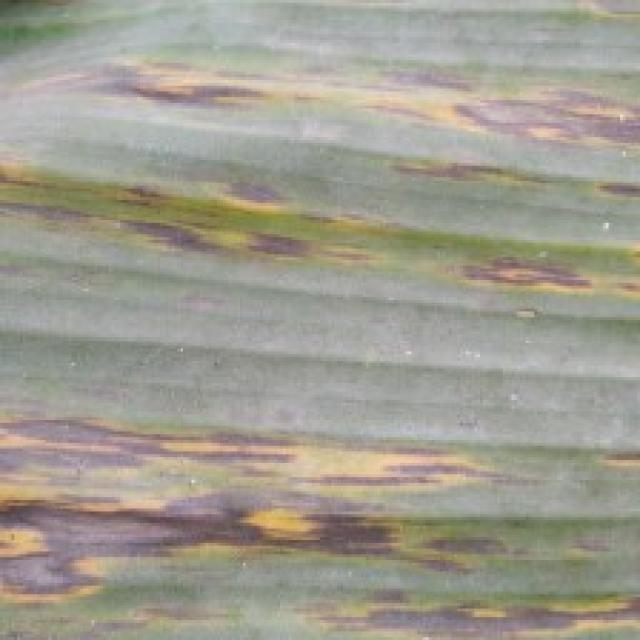Early_leaf_spot: (0, 387, 640, 640), (0, 137, 640, 356), (0, 41, 640, 176), (420, 218, 640, 335)
